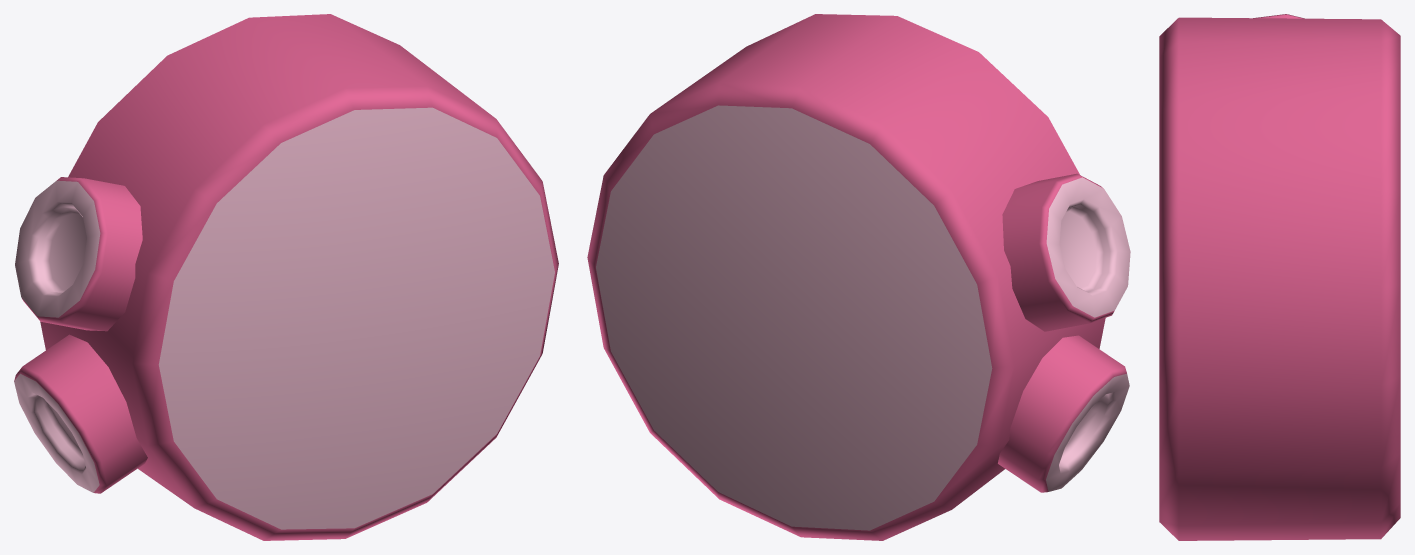
Rendered from Octopus_Tentacles_1_Slice_1.fbx.
3 renders of one model, left to right at view 1: azimuth 30°, elevation 25°; view 2: azimuth 150°, elevation 25°; view 3: azimuth 270°, elevation 25°, orthographic. The views are drawn at different scales.
Parts seen in each view (by area): view 1: Octopus_Tentacles_1_Slice_1; view 2: Octopus_Tentacles_1_Slice_1; view 3: Octopus_Tentacles_1_Slice_1.
Boxes of the visible parts, x1,y1,x2,y2 form: Octopus_Tentacles_1_Slice_1: (14, 14, 558, 540); Octopus_Tentacles_1_Slice_1: (587, 14, 1130, 540); Octopus_Tentacles_1_Slice_1: (1159, 14, 1400, 540).
Bounding box in the file's own units: 10.32 × 9.33 × 4.31.
